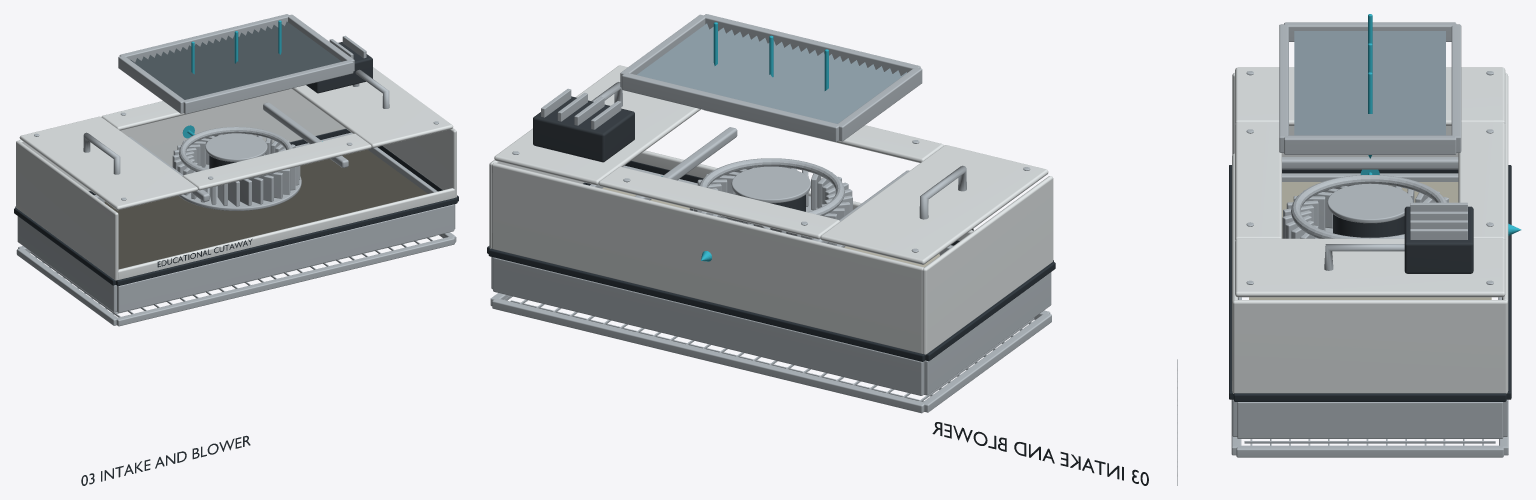
Rendered from ffu_03_intake_and_blower.glb.
3 views of the same model, side by side, from view 1: azimuth 30°, elevation 25°; view 2: azimuth 150°, elevation 25°; view 3: azimuth 270°, elevation 25° (orthographic). The views are drawn at different scales.
Parts seen in each view (by area): view 1: HEPA aluminum frame.010, Top left.002, Housing side.004, Housing back.002, Top right.002, Cutaway front lower lip, Top edge panel.004, Protective grille frame.010, Housing side.005, HEPA aluminum frame.008, Optional prefilter frame.010, Sealed edge.010 (+14 smaller); view 2: Housing back.002, HEPA aluminum frame.011, Top left.002, Housing side.004, Top right.002, Top edge panel.005, Protective grille frame.011, HEPA aluminum frame.008, Optional prefilter frame.011, EC controller.002, Sealed edge.011, Optional prefilter frame.010 (+12 smaller); view 3: Housing side.005, Top right.002, HEPA aluminum frame.009, Top left.002, Top edge panel.004, Top edge panel.005, Protective grille frame.009, Optional prefilter frame.009, EC controller.002, Motor end plate.002, Sealed edge.009, Impeller inlet ring.002 (+43 smaller).
Boxes of the visible parts, bbox=[...] form: HEPA aluminum frame.010: bbox=[117, 204, 454, 312]; Top left.002: bbox=[19, 116, 197, 210]; Housing side.004: bbox=[16, 140, 118, 280]; Housing back.002: bbox=[19, 88, 345, 191]; Top right.002: bbox=[291, 67, 453, 147]; Cutaway front lower lip: bbox=[118, 188, 454, 279]; Top edge panel.004: bbox=[182, 133, 371, 190]; Protective grille frame.010: bbox=[116, 236, 454, 326]; Housing side.005: bbox=[383, 128, 456, 197]; HEPA aluminum frame.008: bbox=[17, 216, 116, 312]; Optional prefilter frame.010: bbox=[183, 60, 353, 114]; Sealed edge.010: bbox=[116, 197, 457, 286]; Housing back.002: bbox=[492, 162, 923, 353]; HEPA aluminum frame.011: bbox=[493, 257, 924, 395]; Top left.002: bbox=[820, 145, 1048, 264]; Housing side.004: bbox=[922, 176, 1053, 354]; Top right.002: bbox=[494, 65, 700, 185]; Top edge panel.005: bbox=[598, 167, 839, 239]; Protective grille frame.011: bbox=[492, 298, 924, 413]; HEPA aluminum frame.008: bbox=[924, 272, 1051, 395]; Optional prefilter frame.011: bbox=[622, 73, 838, 141]; EC controller.002: bbox=[533, 96, 634, 162]; Sealed edge.011: bbox=[488, 248, 925, 361]; Optional prefilter frame.010: bbox=[703, 14, 920, 75]; Housing side.005: bbox=[1232, 300, 1507, 393]; Top right.002: bbox=[1235, 238, 1505, 297]; HEPA aluminum frame.009: bbox=[1237, 402, 1503, 438]; Top left.002: bbox=[1235, 67, 1505, 125]; Top edge panel.004: bbox=[1235, 122, 1281, 239]; Top edge panel.005: bbox=[1458, 122, 1505, 239]; Protective grille frame.009: bbox=[1236, 445, 1503, 457]; Optional prefilter frame.009: bbox=[1284, 135, 1456, 154]; EC controller.002: bbox=[1404, 206, 1473, 273]; Motor end plate.002: bbox=[1327, 183, 1412, 223]; Sealed edge.009: bbox=[1233, 393, 1506, 401]; Impeller inlet ring.002: bbox=[1291, 175, 1446, 238].
Size of the model in its own units: 4.59 by 3.84 by 2.5.
